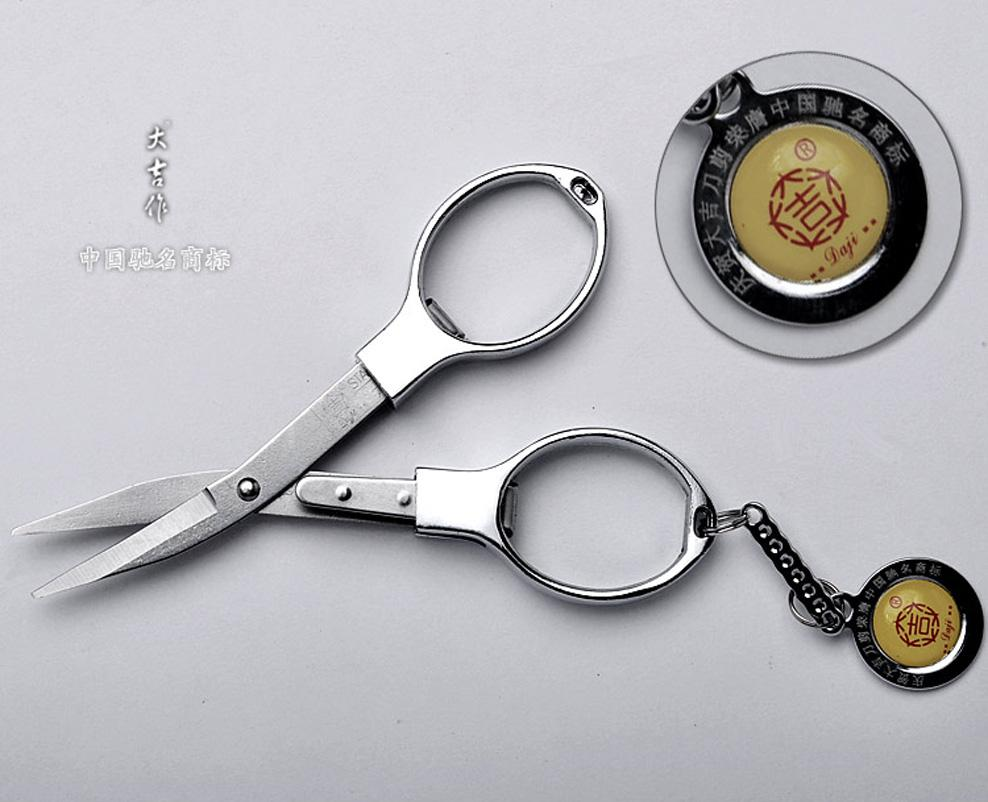scissor: (43, 125, 768, 644)
